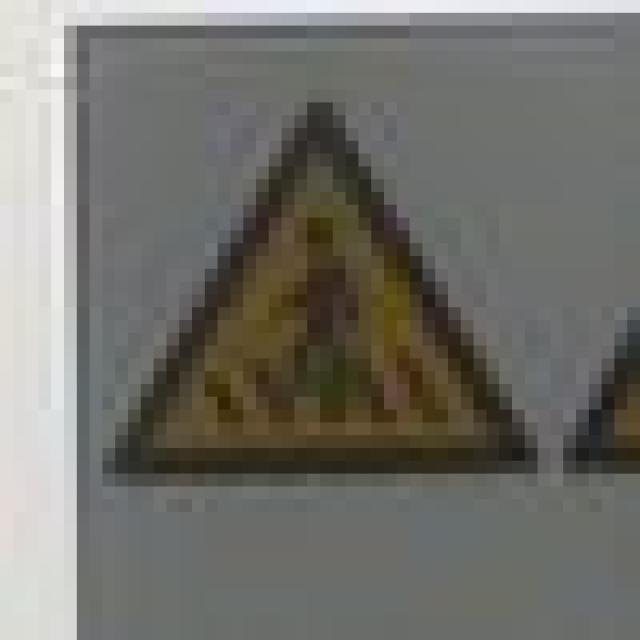pass_either_side: (76, 76, 538, 474)
